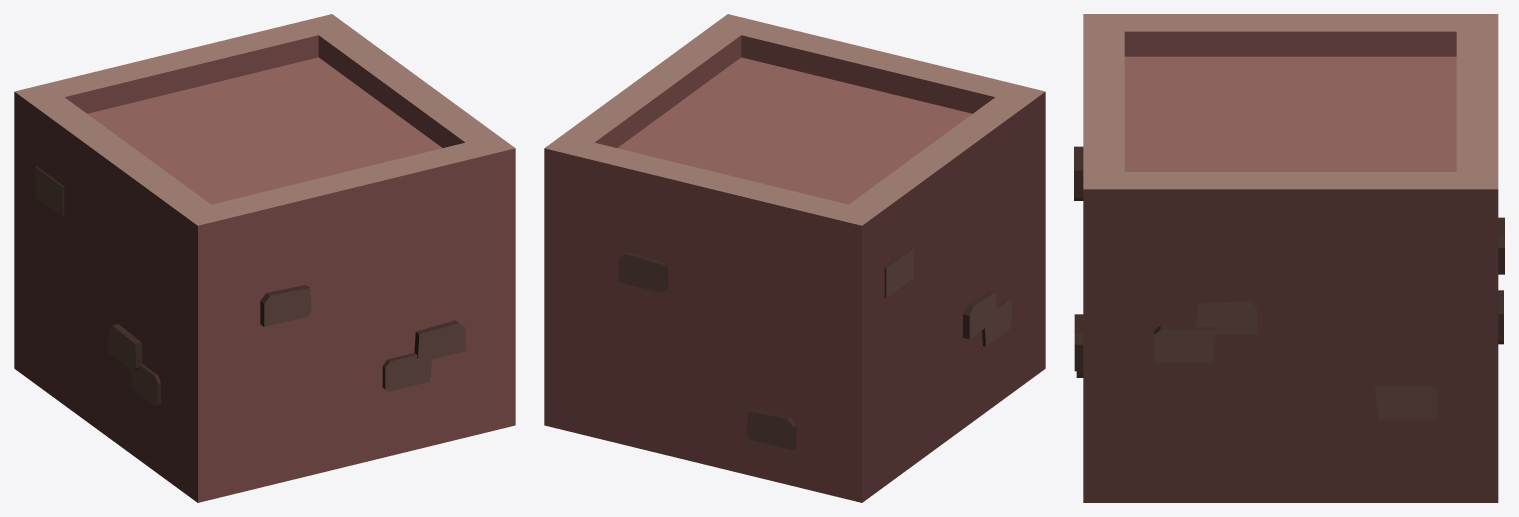
File: TB_D_Bd_Body_Small_Red.FBX
The picture shows the model from 3 angles, left to right: view 1: azimuth 30°, elevation 25°; view 2: azimuth 150°, elevation 25°; view 3: azimuth 270°, elevation 25°; orthographic projection. The views are drawn at different scales.
Parts seen in each view (by area): view 1: TB_D_Bd_Body_Small_Red; view 2: TB_D_Bd_Body_Small_Red; view 3: TB_D_Bd_Body_Small_Red.
Part boxes in pixels (x1=…): TB_D_Bd_Body_Small_Red: x1=14, y1=14, x2=515, y2=502; TB_D_Bd_Body_Small_Red: x1=544, y1=14, x2=1045, y2=502; TB_D_Bd_Body_Small_Red: x1=1074, y1=14, x2=1504, y2=502.
Size of the model in its own units: 3.13 by 2.5 by 3.11.
